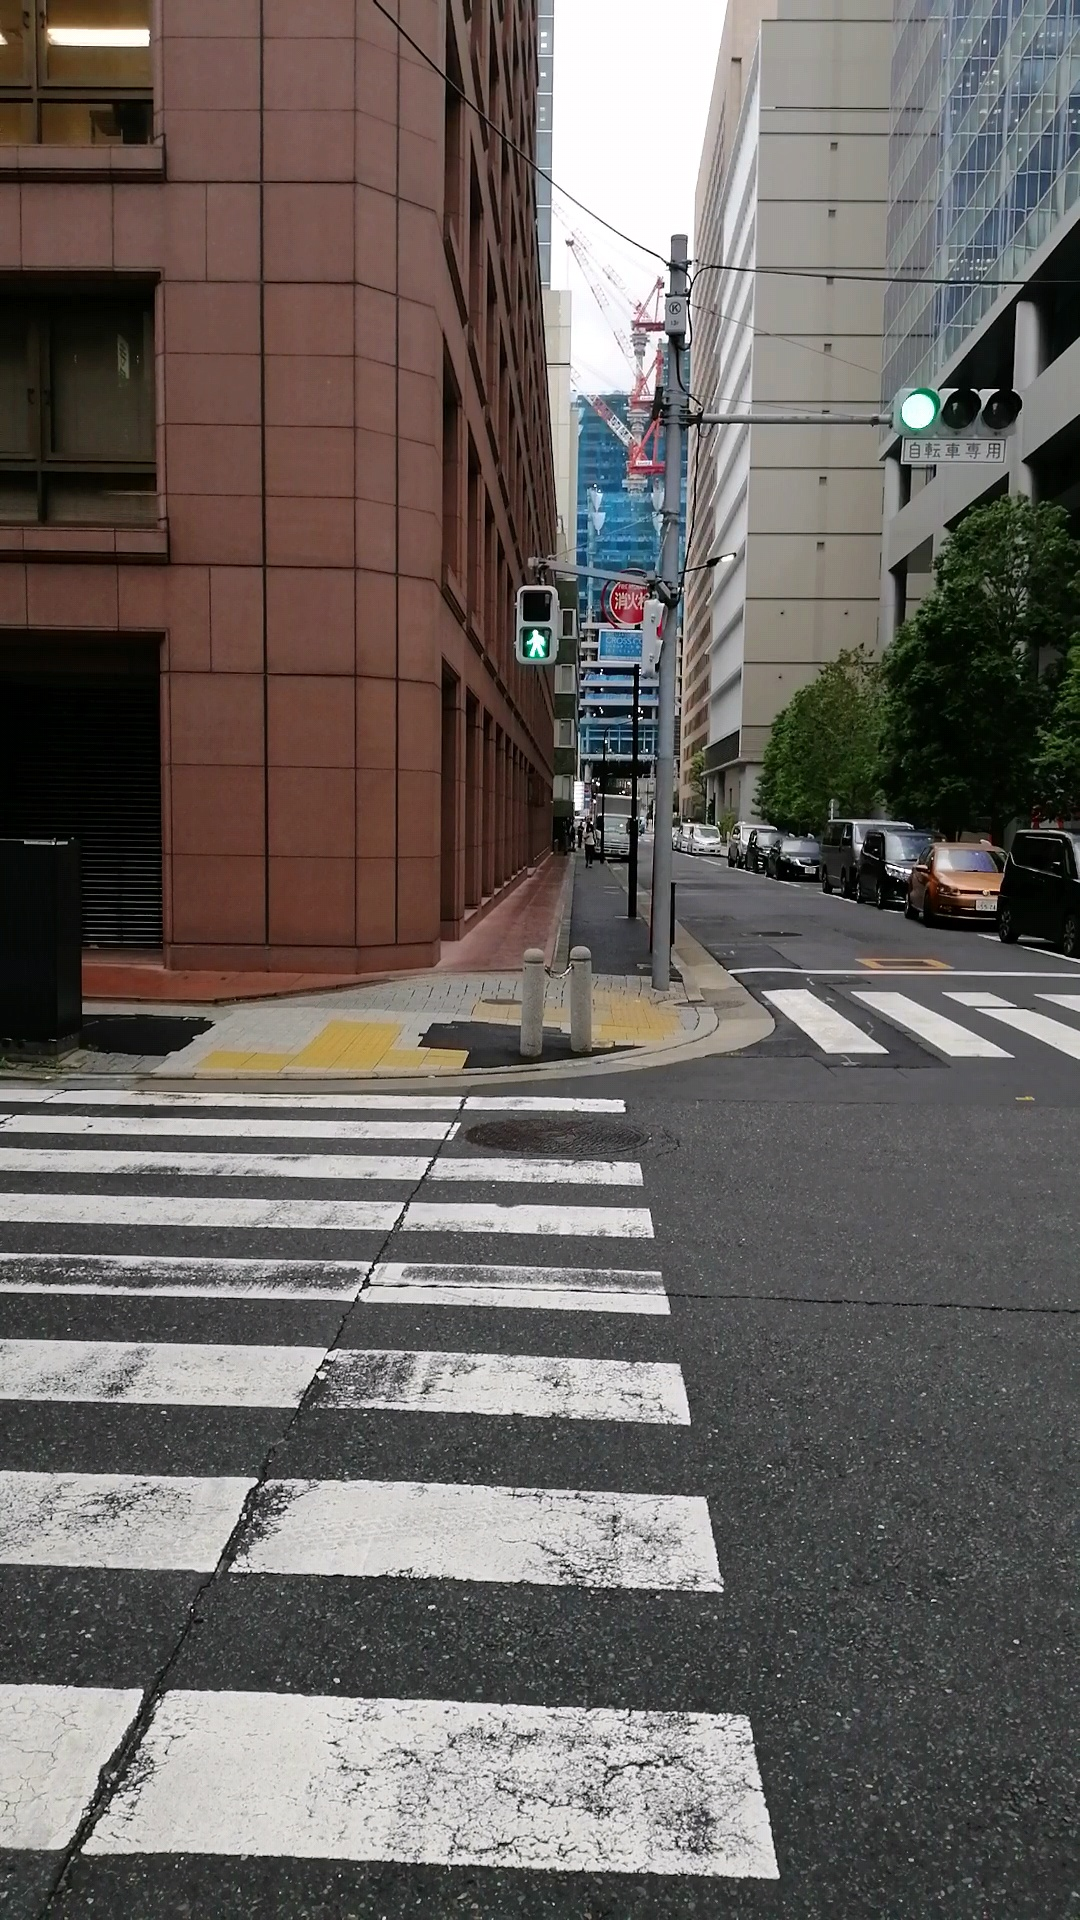green: (512, 583, 558, 665)
